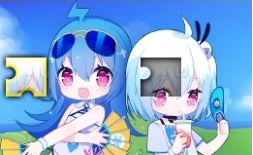gap: (141, 57, 181, 96)
